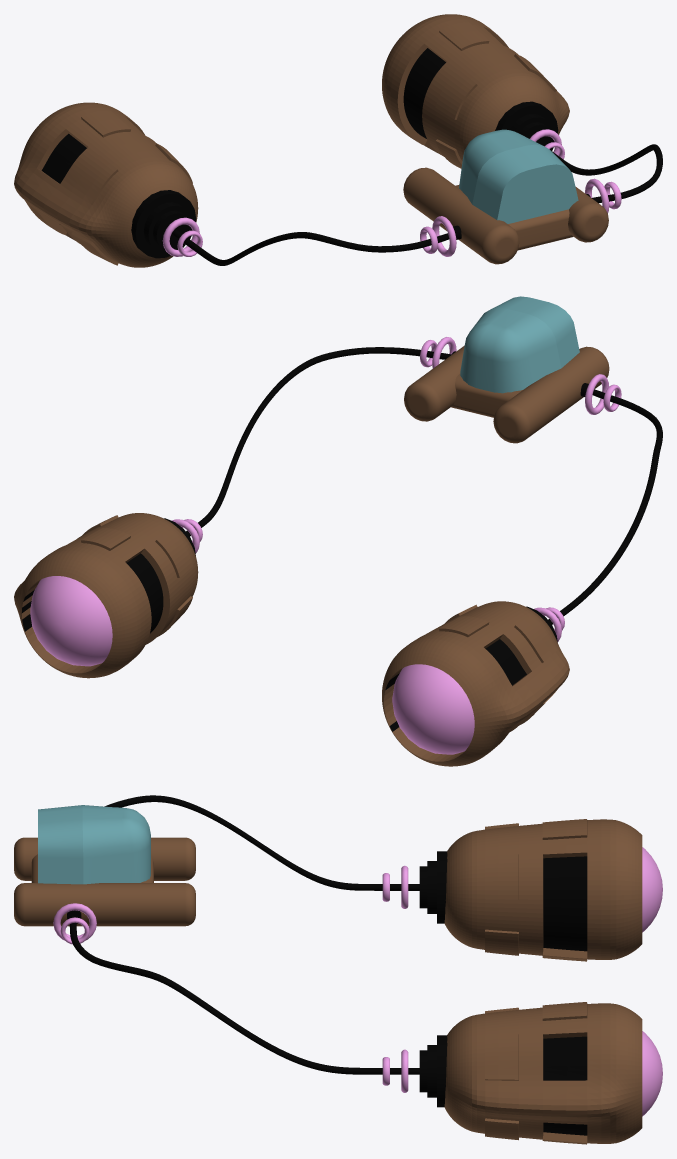
Rendered from PodRacer.fbx.
3 views of the same model, one above another, from view 1: azimuth 30°, elevation 25°; view 2: azimuth 150°, elevation 25°; view 3: azimuth 270°, elevation 25° (orthographic). The views are drawn at different scales.
Parts seen in each view (by area): view 1: pCylinder5, pCylinder14, pCube3, pCylinder7, pCylinder16, pCube4, pCylinder6, pCylinder13, pCylinder12, pCylinder9, pCylinder17, pCylinder10 (+4 smaller); view 2: pCylinder5, pCylinder14, pCube3, pSphere1, pSphere2, pCylinder7, pCylinder6, pCylinder12, pCylinder16, pCube4; view 3: pCylinder14, pCylinder5, pCube3, pCylinder6, pCylinder12, pCylinder7, pCylinder16, pSphere2, pSphere1, pCylinder13, pCylinder9, pTorus5 (+2 smaller).
Part boxes in pixels (left/top/right/bottom): pCylinder5: left=14, top=102, right=198, bottom=267; pCylinder14: left=382, top=14, right=569, bottom=168; pCube3: left=459, top=129, right=578, bottom=223; pCylinder7: left=403, top=167, right=519, bottom=264; pCylinder16: left=171, top=229, right=449, bottom=265; pCube4: left=455, top=185, right=573, bottom=250; pCylinder6: left=568, top=186, right=608, bottom=242; pCylinder13: left=131, top=190, right=196, bottom=258; pCylinder12: left=536, top=140, right=662, bottom=203; pCylinder9: left=495, top=101, right=558, bottom=150; pCylinder17: left=153, top=210, right=191, bottom=249; pCylinder10: left=143, top=202, right=191, bottom=252; pCylinder5: left=382, top=601, right=569, bottom=766; pCylinder14: left=14, top=513, right=198, bottom=678; pCube3: left=460, top=296, right=579, bottom=393; pSphere1: left=392, top=664, right=474, bottom=754; pSphere2: left=30, top=576, right=112, bottom=666; pCylinder7: left=493, top=346, right=609, bottom=443; pCylinder6: left=404, top=345, right=464, bottom=421; pCylinder12: left=186, top=347, right=451, bottom=536; pCylinder16: left=548, top=389, right=662, bottom=624; pCube4: left=451, top=374, right=522, bottom=417; pCylinder14: left=444, top=1002, right=642, bottom=1144; pCylinder5: left=444, top=819, right=642, bottom=961; pCube3: left=38, top=805, right=150, bottom=884; pCylinder6: left=14, top=883, right=195, bottom=926; pCylinder12: left=69, top=915, right=419, bottom=1074; pCylinder7: left=14, top=837, right=195, bottom=880; pCylinder16: left=104, top=795, right=419, bottom=890; pSphere2: left=642, top=1031, right=662, bottom=1116; pSphere1: left=642, top=847, right=662, bottom=932; pCylinder13: left=437, top=851, right=447, bottom=923; pCylinder9: left=437, top=1035, right=447, bottom=1107; pTorus5: left=53, top=903, right=96, bottom=940.
Size of the model in its own units: 8.37 by 3.53 by 8.92.
